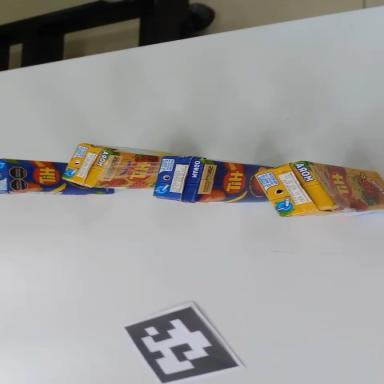HIT-MANGO: (154, 151, 272, 213), (0, 159, 116, 200)
HIT-MORA: (255, 158, 384, 217), (63, 141, 170, 195)
cara_F: (298, 161, 384, 214), (191, 158, 274, 209), (5, 159, 115, 195), (93, 151, 162, 192)
